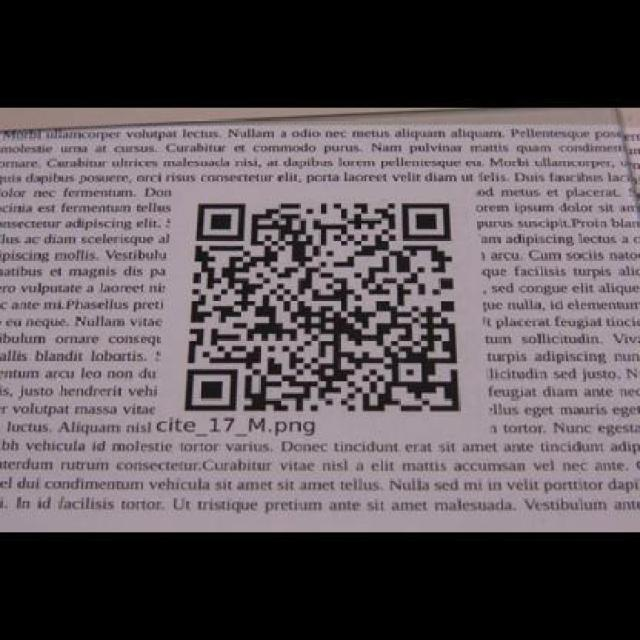QRCode: (176, 195, 468, 418)
